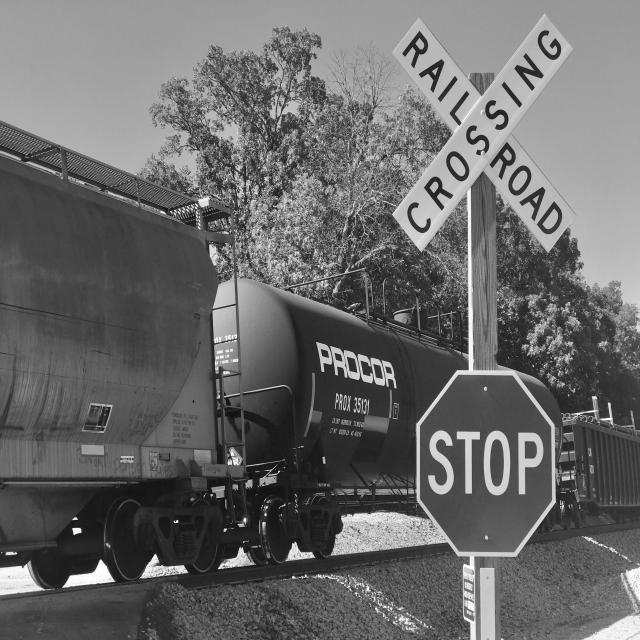Stop-sign: (394, 342, 577, 591)
